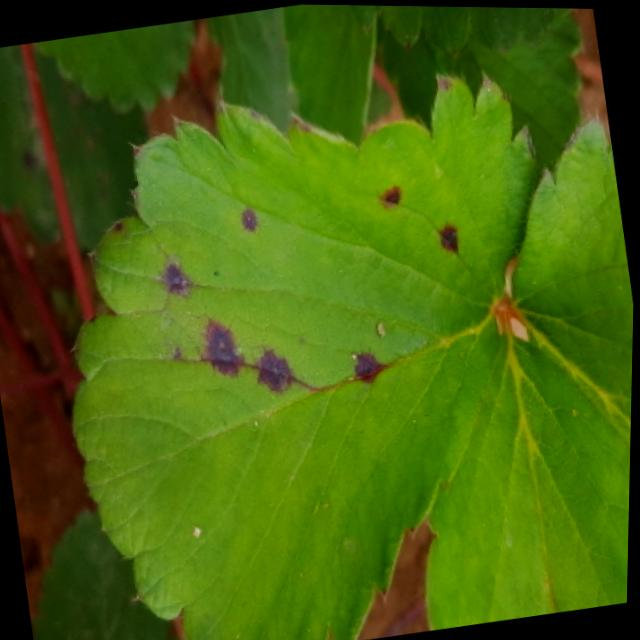Leaf Spot: (73, 64, 540, 640), (426, 309, 633, 630), (0, 42, 149, 250), (35, 500, 186, 640)
